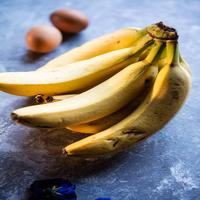banane: (1, 21, 198, 160)
